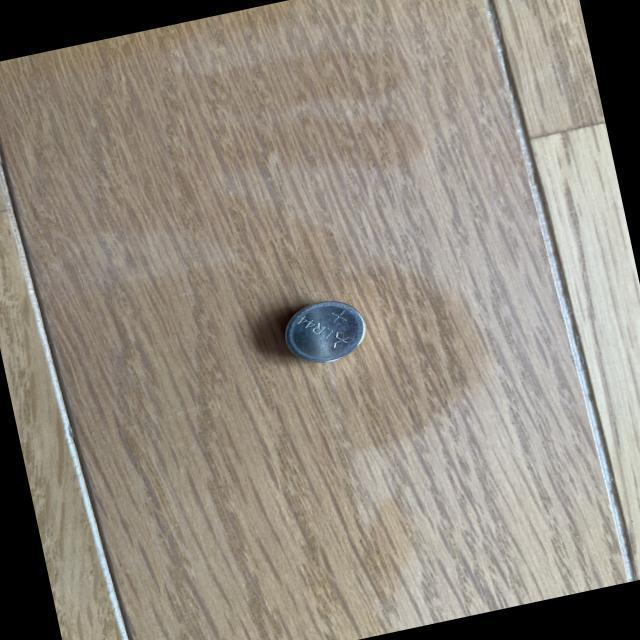COIN: (276, 294, 370, 372)
